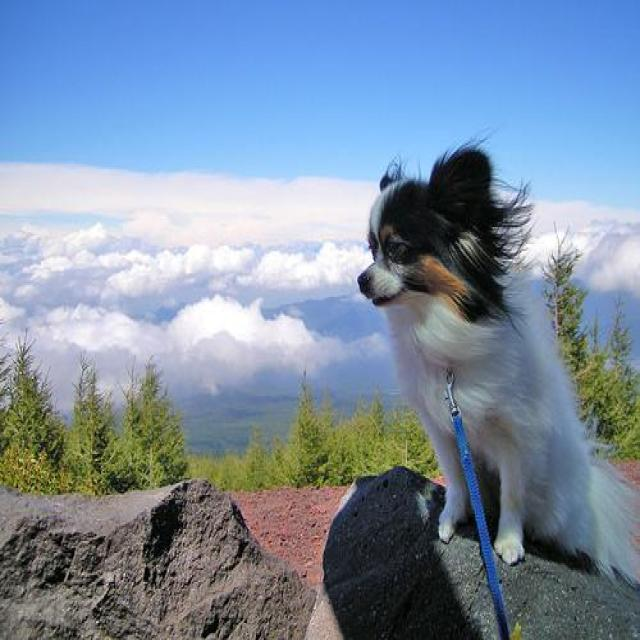papillon: (354, 143, 638, 589)
